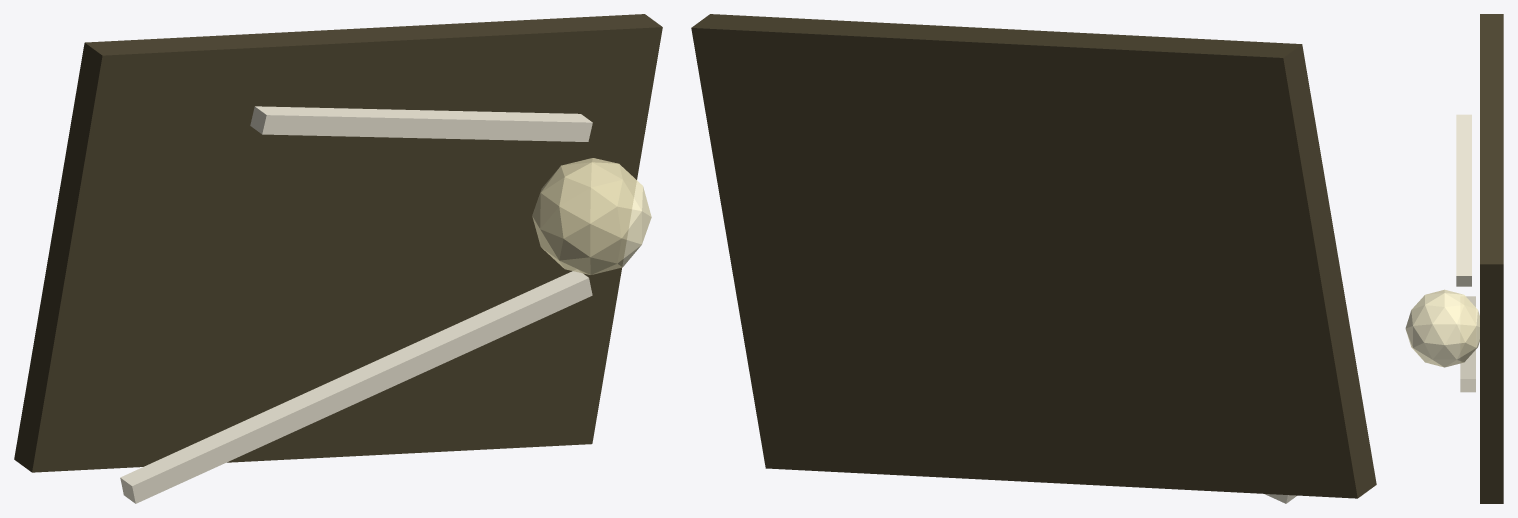
File: 02_world_prop_polish.glb
3 views of the same model, side by side, from view 1: azimuth 30°, elevation 25°; view 2: azimuth 150°, elevation 25°; view 3: azimuth 270°, elevation 25° (orthographic). The views are drawn at different scales.
Parts seen in each view (by area): view 1: object_overlay_plate, edge_wear_a, glow_socket, edge_wear_b; view 2: object_overlay_plate; view 3: object_overlay_plate, glow_socket, edge_wear_b, edge_wear_a.
Part boxes in pixels (x1,y1,x2,y2): object_overlay_plate: (14, 14, 662, 472); edge_wear_a: (120, 270, 592, 503); glow_socket: (532, 158, 651, 274); edge_wear_b: (250, 106, 592, 141); object_overlay_plate: (691, 14, 1376, 498); object_overlay_plate: (1480, 14, 1503, 503); glow_socket: (1405, 289, 1479, 367); edge_wear_b: (1456, 114, 1471, 286); edge_wear_a: (1460, 296, 1475, 392).
Size of the model in its own units: 1.22 by 0.9371 by 0.25.
